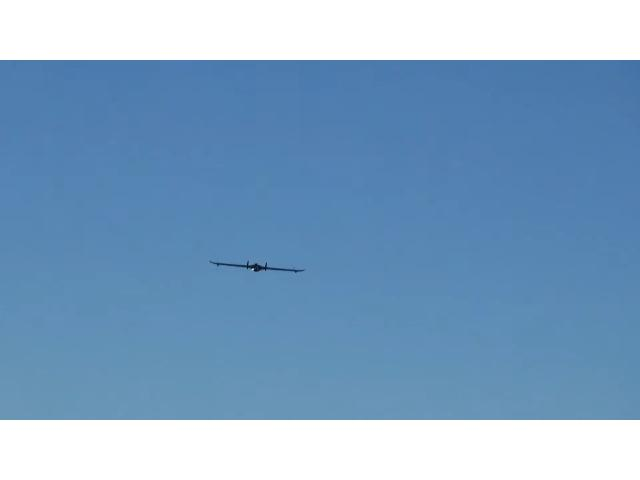Anti-Drone: (198, 248, 312, 286)
